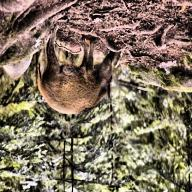boar: (26, 34, 131, 115)
